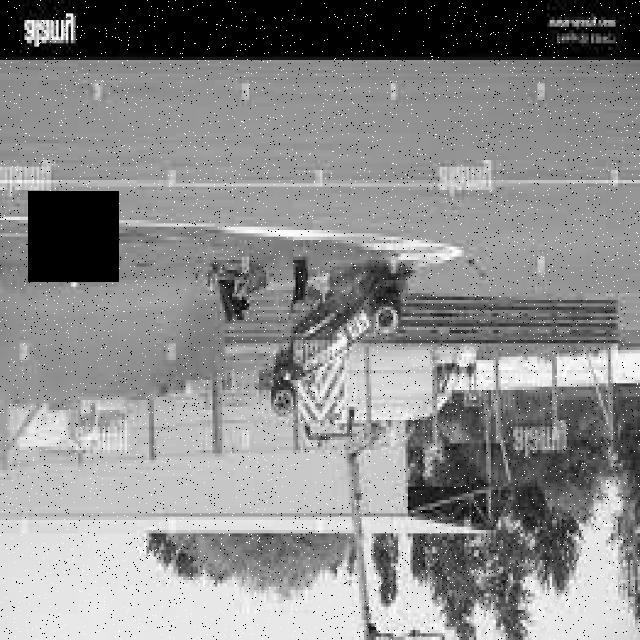severe: (258, 254, 414, 424)
